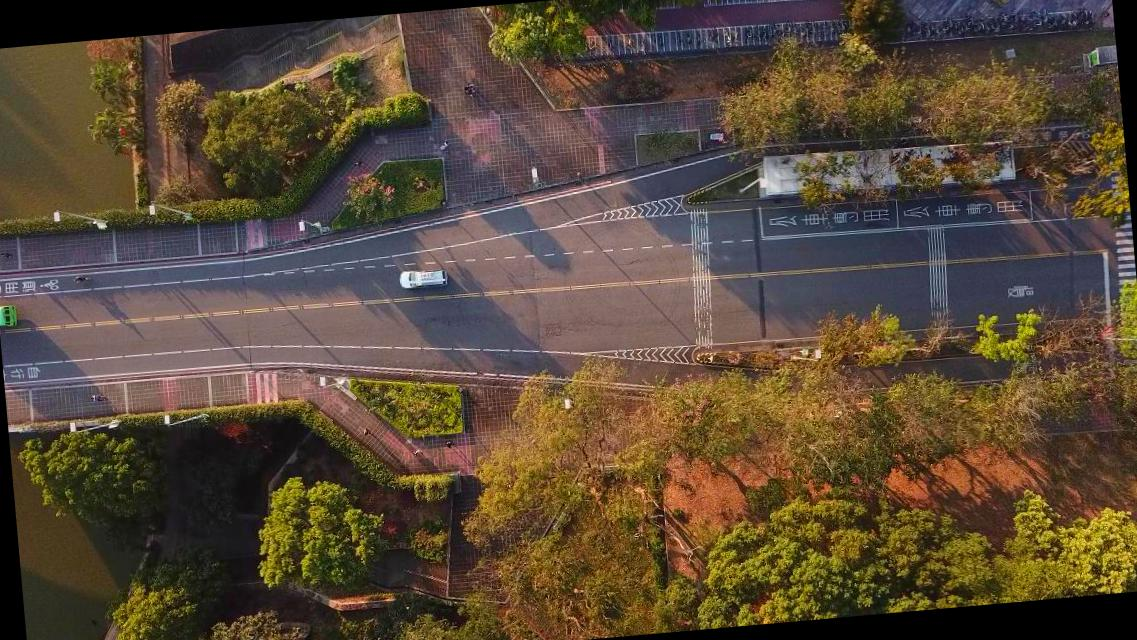vehicle: (397, 266, 449, 290)
